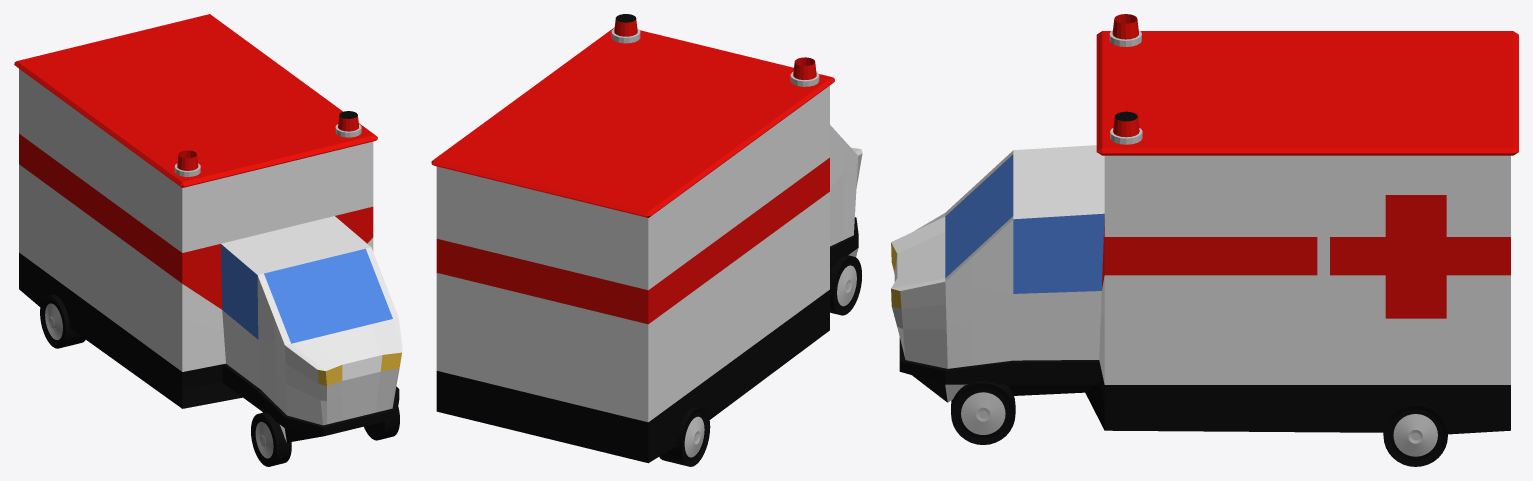
Rendered from ambulance.fbx.
The picture shows the model from 3 angles, left to right: view 1: azimuth 30°, elevation 25°; view 2: azimuth 150°, elevation 25°; view 3: azimuth 270°, elevation 25°; orthographic projection. The views are drawn at different scales.
Visible parts, largest first — view 1: Cylinder.003; view 2: Cylinder.003; view 3: Cylinder.003.
Part boxes in pixels (x1,y1,x2,y2): Cylinder.003: (14, 14, 402, 466); Cylinder.003: (431, 14, 862, 466); Cylinder.003: (891, 14, 1518, 466).
Size of the model in its own units: 111 by 145 by 243.
